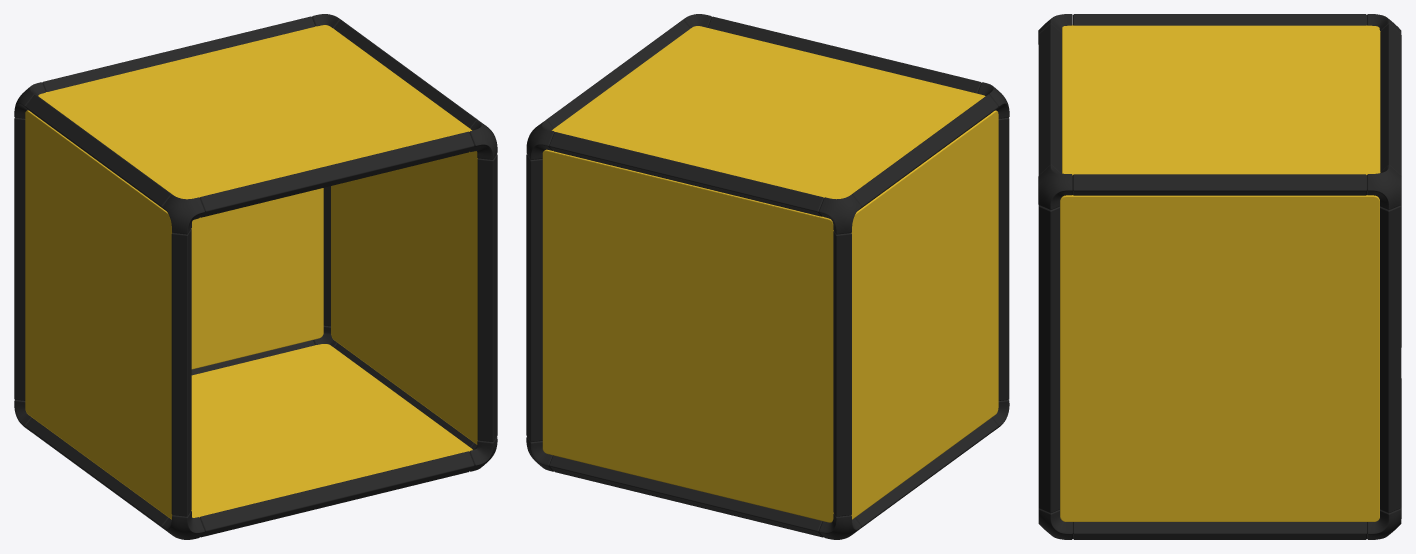
3 views of the same model, side by side, from view 1: azimuth 30°, elevation 25°; view 2: azimuth 150°, elevation 25°; view 3: azimuth 270°, elevation 25° (orthographic). The views are drawn at different scales.
Visible parts, largest first — view 1: 374x329x374; view 2: 374x329x374; view 3: 374x329x374.
Boxes of the visible parts, left/top/right/bottom form: 374x329x374: left=14, top=14, right=497, bottom=539; 374x329x374: left=526, top=14, right=1009, bottom=539; 374x329x374: left=1038, top=14, right=1401, bottom=539.
Size of the model in its own units: 0.4517 by 0.4516 by 0.4063.
